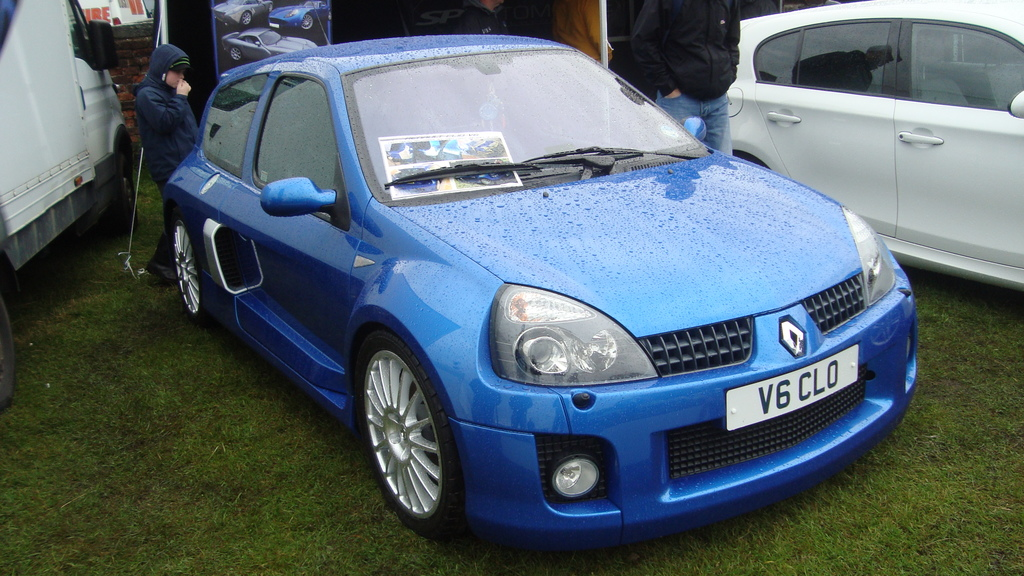Person: (630, 0, 740, 154), (131, 44, 198, 280), (550, 0, 613, 69), (457, 0, 538, 36)
